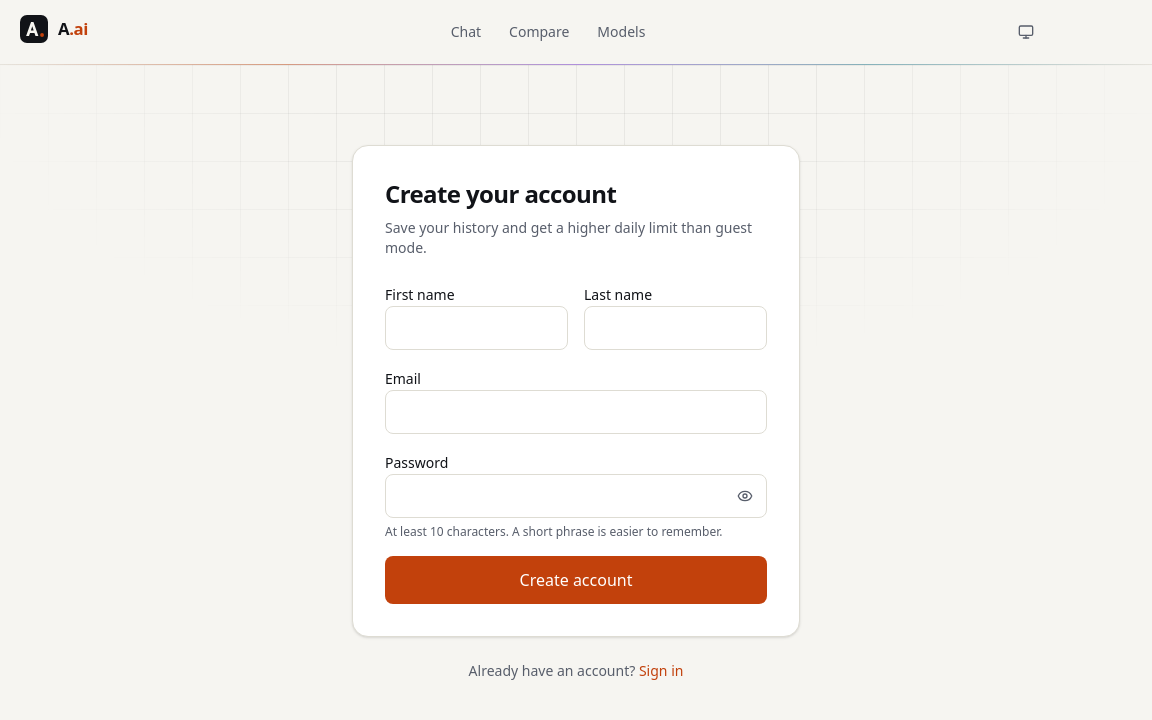
Test: signup page › shows the check-your-inbox step after signing up
The width and height of the screenshot is (1152, 720).
Type "Ada" into the field labelled "First name".
click(476, 328); type("Ada")  # box [385, 306, 568, 350]
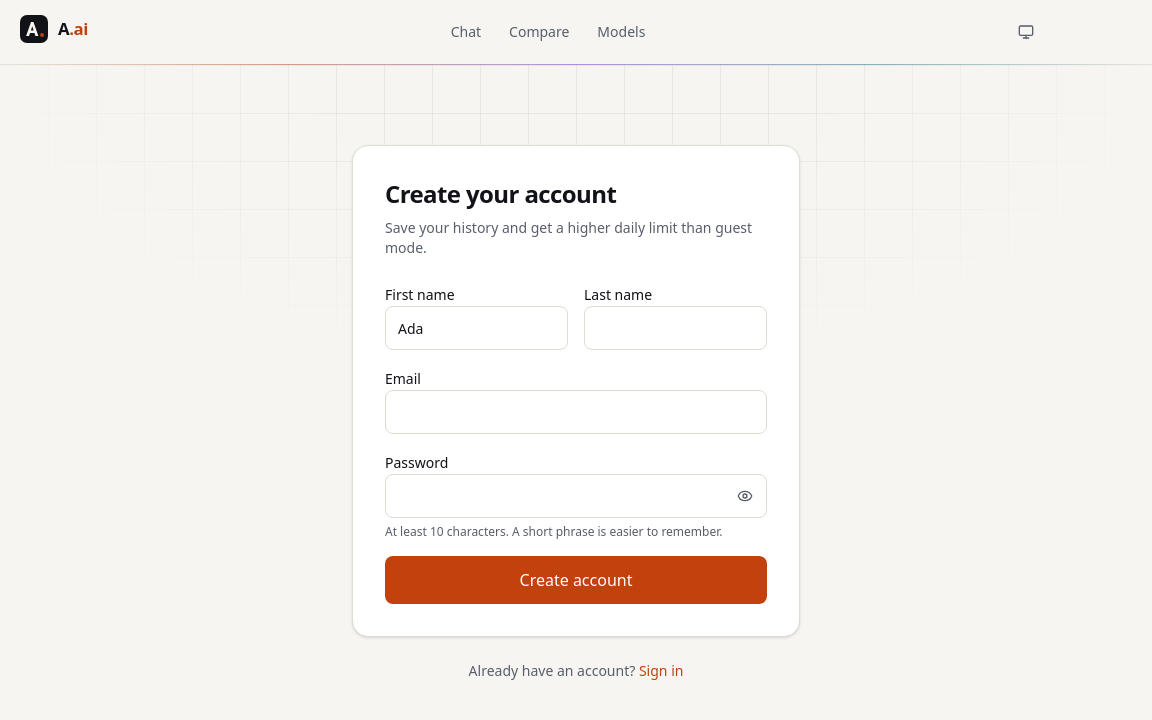
Type "Lovelace" into the field labelled "Last name".
click(676, 328); type("Lovelace")  # box [584, 306, 767, 350]
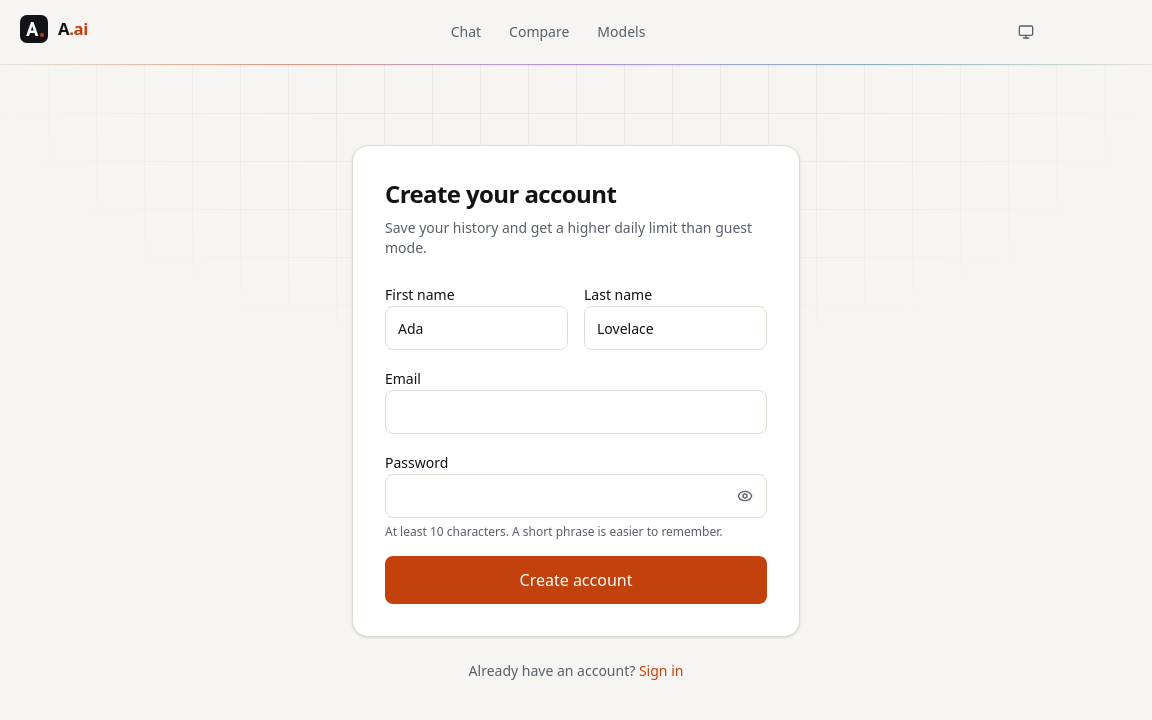
Type "new@example.com" into the field labelled "Email".
click(576, 412); type("new@example.com")  # box [385, 390, 767, 434]
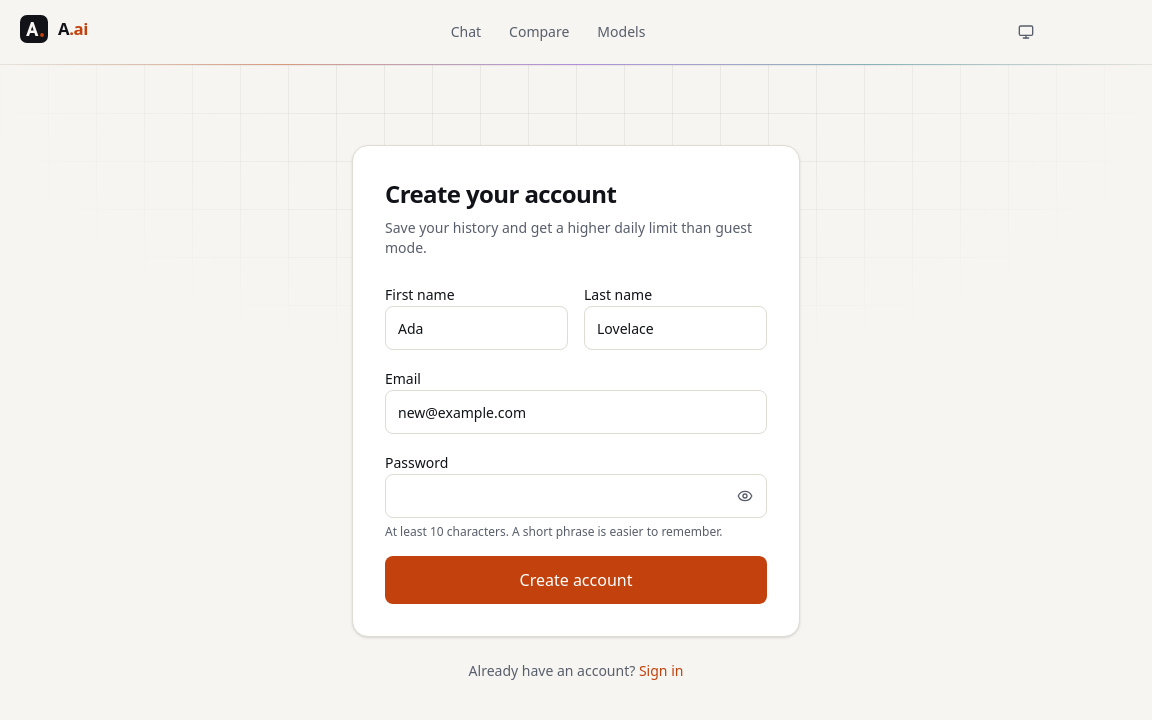
Type "a long enough password" into the password field labelled "Password".
click(576, 496); type("a long enough password")  # box [385, 474, 767, 518]
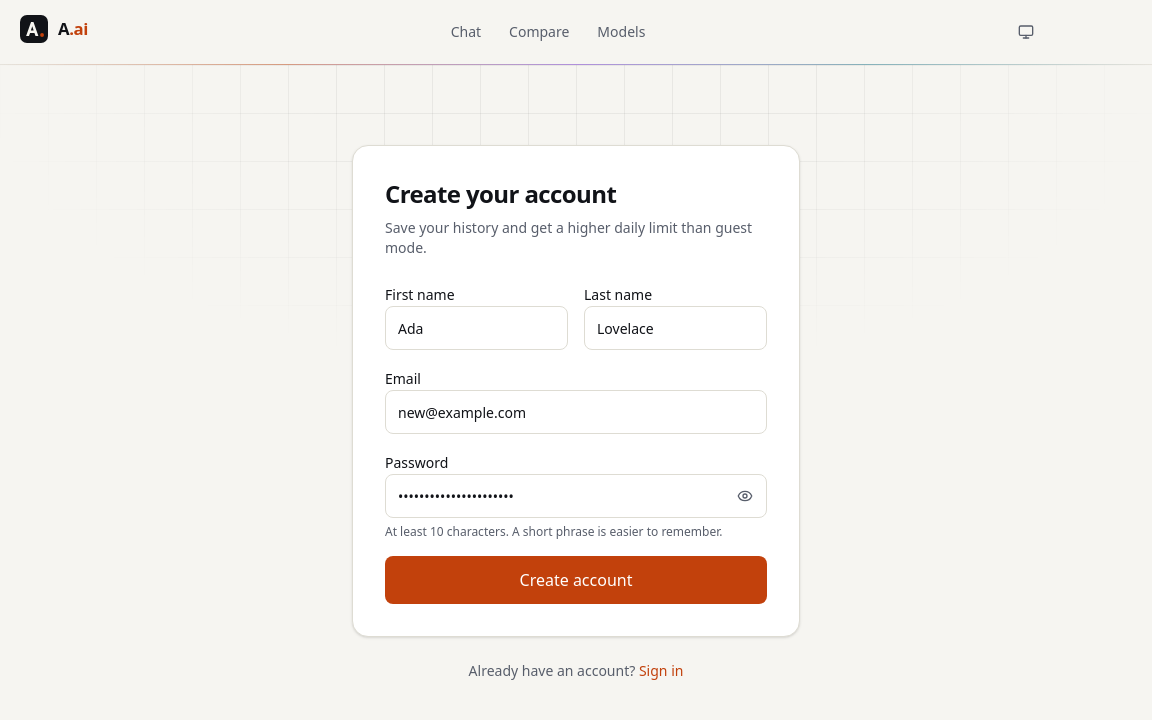
Click the button "Create account".
click(576, 580)  # box [385, 556, 767, 604]
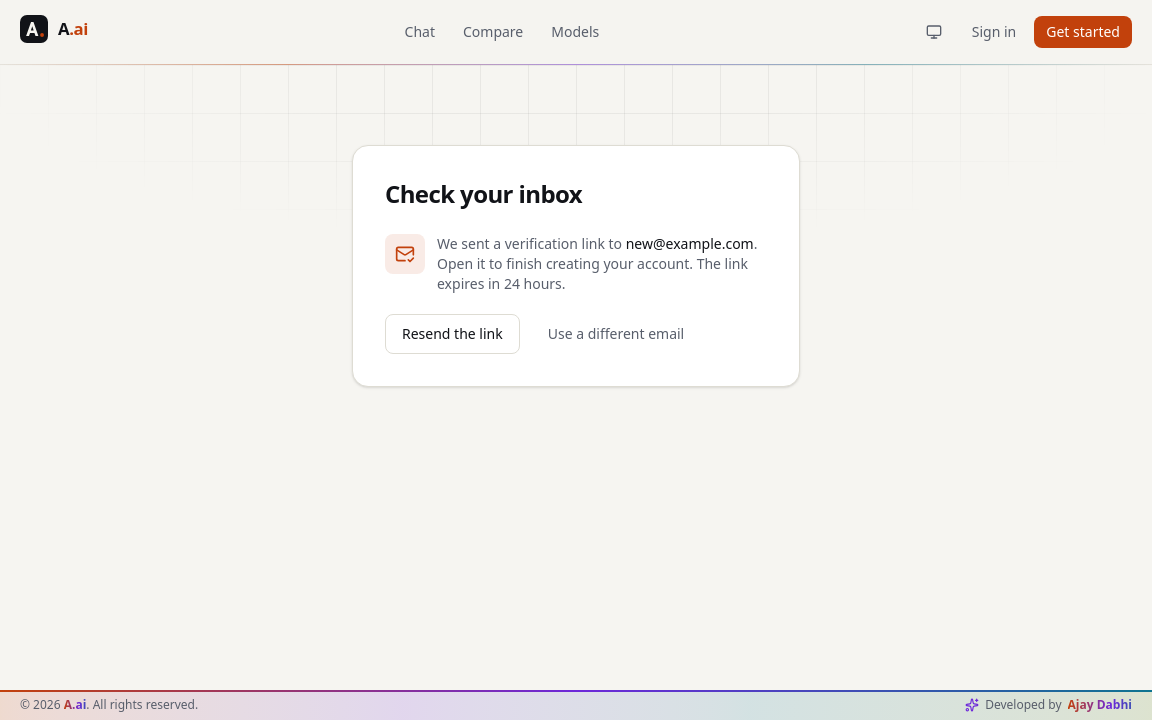
Now the heading "Check your inbox" is shown, box [385, 177, 582, 210]
Now the text "new@example.com" is shown, box [626, 234, 754, 253]
